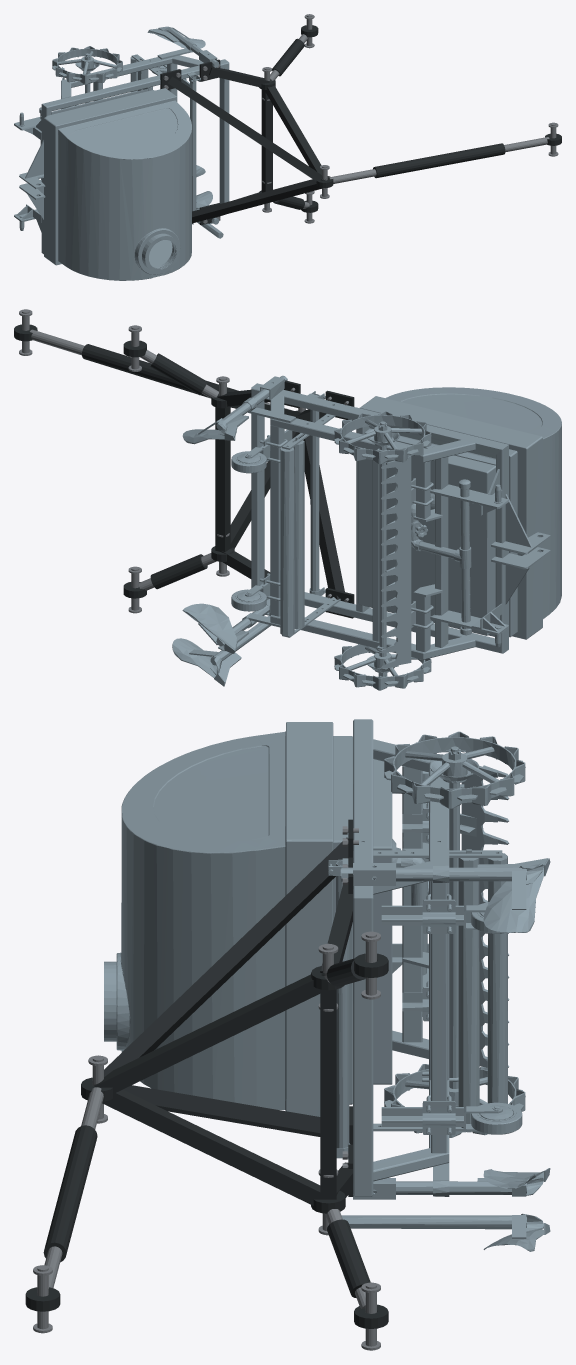
The model's file is implement_mulch_planter_visual.obj.
3 views of the same model, one above another, from view 1: azimuth 30°, elevation 25°; view 2: azimuth 150°, elevation 25°; view 3: azimuth 270°, elevation 25° (orthographic). The views are drawn at different scales.
Parts seen in each view (by area): view 1: solid_82, hitch_receiver_member_5, solid_131, hitch_top_link_sleeve, hitch_receiver_member_6, solid_21, solid_8, hitch_receiver_member_1, hitch_receiver_member_0, hitch_top_link_rod, solid_165, solid_24 (+3 smaller); view 2: solid_82, solid_47, solid_131, solid_74, solid_4, solid_21, solid_8, solid_110, solid_29, solid_77, hitch_receiver_member_0, hitch_receiver_member_6 (+29 smaller); view 3: solid_82, hitch_receiver_member_5, solid_131, solid_8, hitch_receiver_member_1, hitch_receiver_member_2, solid_77, solid_74, hitch_receiver_member_6, hitch_receiver_member_0, solid_29, solid_21 (+21 smaller).
Part boxes in pixels (x1,y1,x2,y2): solid_82: (44, 88, 191, 280); hitch_receiver_member_5: (168, 76, 325, 181); solid_131: (52, 46, 122, 84); hitch_top_link_sleeve: (373, 143, 505, 178); hitch_receiver_member_6: (192, 179, 322, 223); solid_21: (42, 59, 229, 111); solid_8: (219, 63, 229, 203); hitch_receiver_member_1: (264, 80, 329, 180); hitch_receiver_member_0: (261, 89, 272, 192); hitch_top_link_rod: (329, 137, 549, 183); solid_165: (190, 75, 196, 211); solid_24: (62, 57, 172, 87); solid_82: (358, 387, 561, 639); solid_47: (385, 456, 411, 664); solid_131: (334, 411, 431, 464); solid_74: (280, 447, 294, 635); solid_4: (435, 457, 448, 647); solid_21: (251, 383, 508, 454); solid_8: (251, 389, 264, 588); solid_110: (334, 644, 431, 690); solid_29: (270, 425, 284, 616); solid_77: (293, 440, 304, 628); hitch_receiver_member_0: (215, 407, 230, 551); hitch_receiver_member_6: (298, 432, 344, 600); solid_82: (104, 722, 396, 1116); hitch_receiver_member_5: (92, 837, 348, 1082); solid_131: (384, 731, 525, 808); solid_8: (353, 898, 373, 1195); hitch_receiver_member_1: (94, 972, 325, 1093); hitch_receiver_member_2: (102, 1089, 331, 1205); solid_77: (458, 858, 479, 1128); solid_74: (487, 853, 507, 1103); hitch_receiver_member_6: (123, 1085, 320, 1136); hitch_receiver_member_0: (320, 989, 336, 1199); solid_29: (431, 881, 447, 1153); solid_21: (353, 719, 373, 898).
Bounding box in the file's own units: 2.57 × 1.11 × 1.28.
